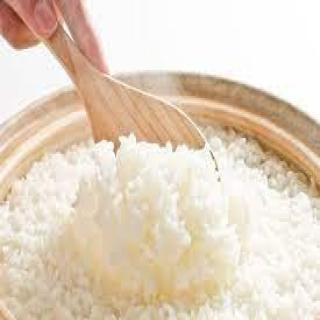Nasi: (1, 124, 320, 320)
